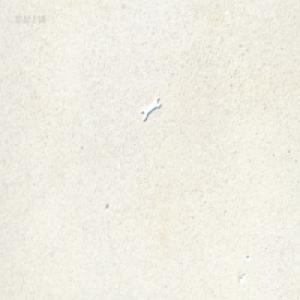Wrench: (140, 98, 161, 122)
